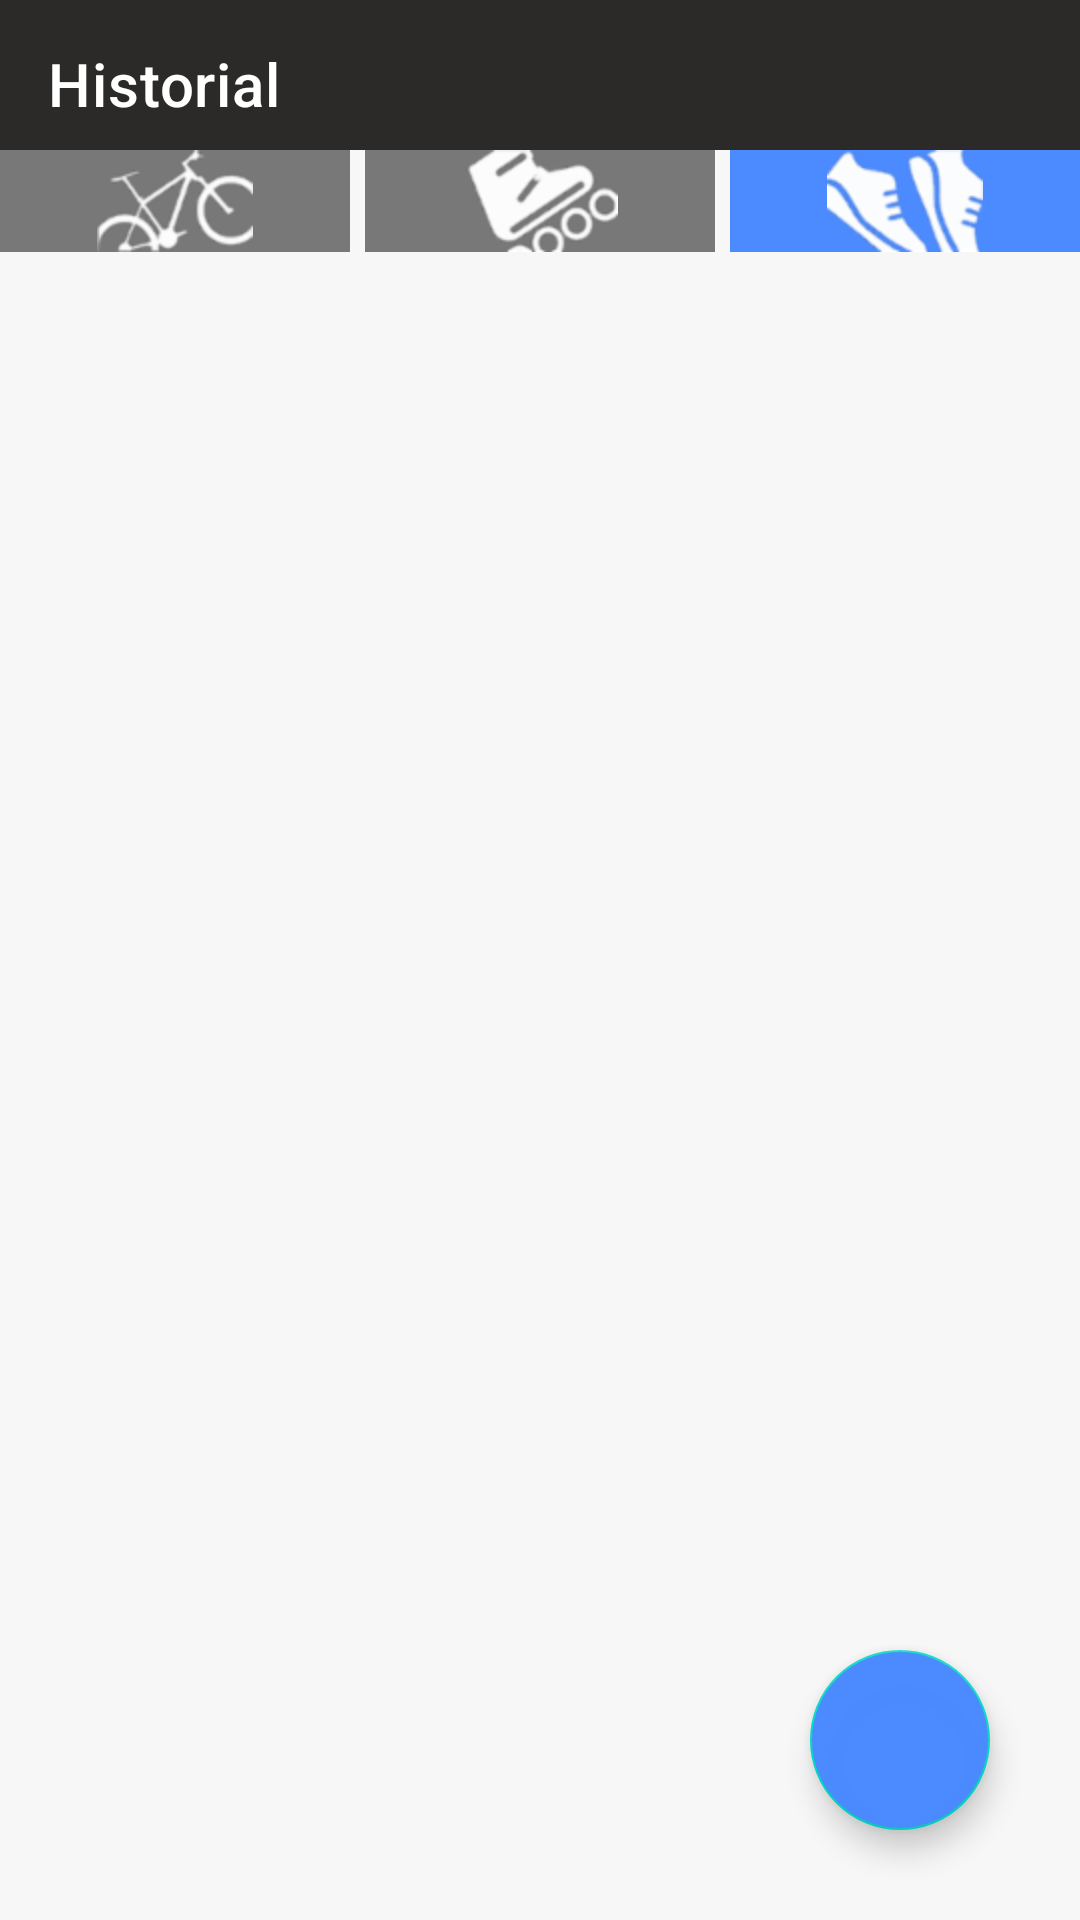

Screen size 1080 × 1920. Icon name, then its center in pixels as [x,y]:
bike: [175,201]
rollerskate: [540,201]
running: [905,201]
